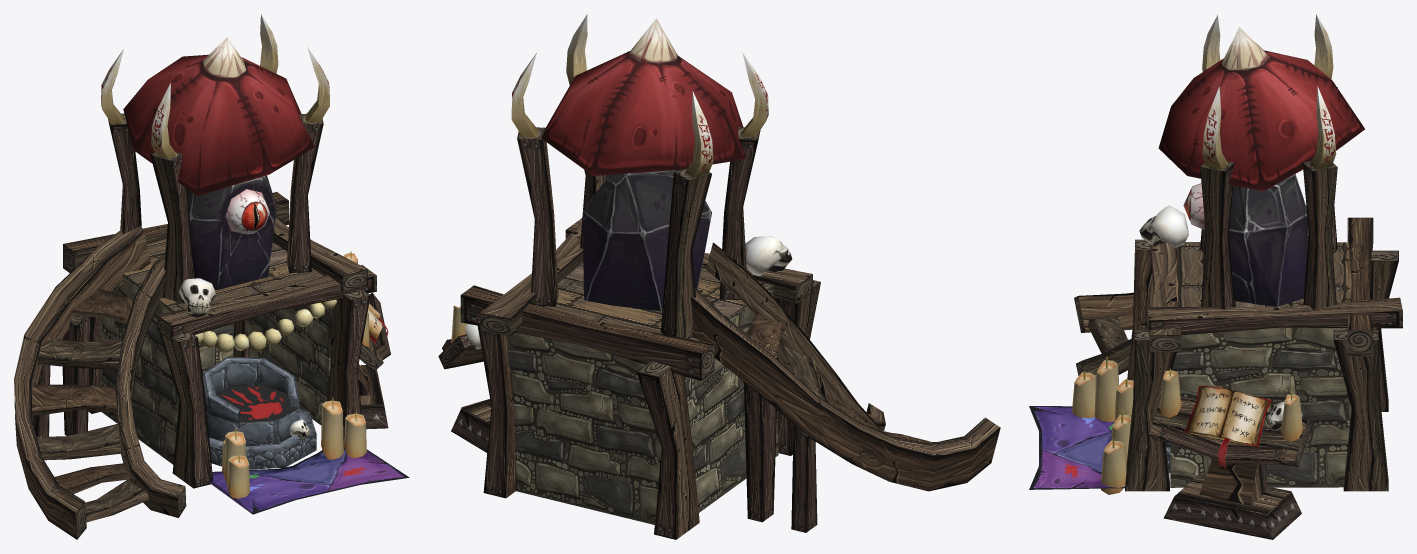
The model's file is Orc_Wizard_tower.FBX.
3 renders of one model, left to right at view 1: azimuth 30°, elevation 25°; view 2: azimuth 150°, elevation 25°; view 3: azimuth 270°, elevation 25°, orthographic. The views are drawn at different scales.
Visible parts, largest first — view 1: Stairs, Awning, walls, Shrine, black_Mineral, Plane019, wood_pilar012, wood_pilar004, wood_pilar003, wood_pilar015, candle (×4), wood_pilar007 (+14 smaller); view 2: walls, Stairs, Awning, black_Mineral, wood_pilar011, wood_pilar013, wood_pilar016, wood_pilar014, wood_pilar017, floor002, wood_pilar018, wood_pilar015 (+8 smaller); view 3: Awning, walls, Lectern, black_Mineral, wood_pilar018, wood_pilar014, Plane019, wood_pilar003, candle (×5), wood_pilar017, wood_pilar007, Book (+14 smaller).
Part boxes in pixels (x1=…): Stairs: x1=14, y1=226, x2=186, y2=539; Awning: x1=123, y1=37, x2=314, y2=195; walls: x1=101, y1=273, x2=331, y2=464; Shrine: x1=203, y1=357, x2=316, y2=469; black_Mineral: x1=187, y1=175, x2=276, y2=290; Plane019: x1=208, y1=449, x2=409, y2=514; wood_pilar012: x1=157, y1=327, x2=212, y2=488; wood_pilar004: x1=157, y1=265, x2=376, y2=341; wood_pilar003: x1=327, y1=290, x2=370, y2=449; wood_pilar015: x1=150, y1=152, x2=194, y2=303; candle (×4): x1=224, y1=400, x2=366, y2=498; wood_pilar007: x1=287, y1=113, x2=323, y2=272; walls: x1=506, y1=284, x2=778, y2=524; Stairs: x1=690, y1=242, x2=1000, y2=532; Awning: x1=541, y1=18, x2=746, y2=175; black_Mineral: x1=583, y1=169, x2=711, y2=310; wood_pilar011: x1=460, y1=285, x2=714, y2=380; wood_pilar013: x1=636, y1=361, x2=699, y2=539; wood_pilar016: x1=661, y1=168, x2=711, y2=338; wood_pilar014: x1=477, y1=320, x2=517, y2=498; wood_pilar017: x1=517, y1=127, x2=558, y2=306; floor002: x1=544, y1=263, x2=773, y2=340; wood_pilar018: x1=480, y1=222, x2=583, y2=336; wood_pilar015: x1=719, y1=127, x2=760, y2=299; Awning: x1=1158, y1=27, x2=1364, y2=191; walls: x1=1170, y1=327, x2=1351, y2=487; Lectern: x1=1149, y1=395, x2=1312, y2=539; black_Mineral: x1=1205, y1=174, x2=1307, y2=306; wood_pilar018: x1=1146, y1=297, x2=1402, y2=335; wood_pilar014: x1=1333, y1=330, x2=1388, y2=491; Plane019: x1=1029, y1=406, x2=1124, y2=489; wood_pilar003: x1=1125, y1=330, x2=1176, y2=491; candle (×5): x1=1072, y1=360, x2=1133, y2=494; wood_pilar017: x1=1302, y1=161, x2=1337, y2=309; wood_pilar007: x1=1200, y1=161, x2=1234, y2=309; Book: x1=1185, y1=385, x2=1271, y2=469.
Size of the model in its own units: 4472 by 3334 by 4229.
